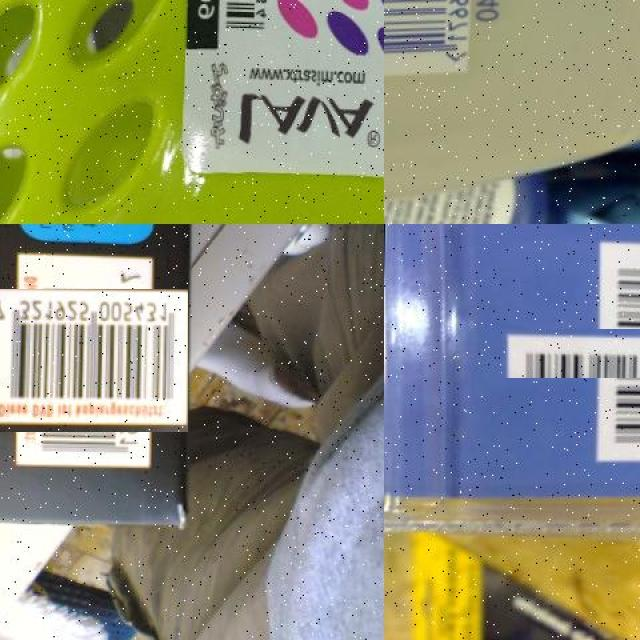Barcode: (0, 271, 170, 451), (546, 285, 640, 423), (215, 0, 272, 55)
